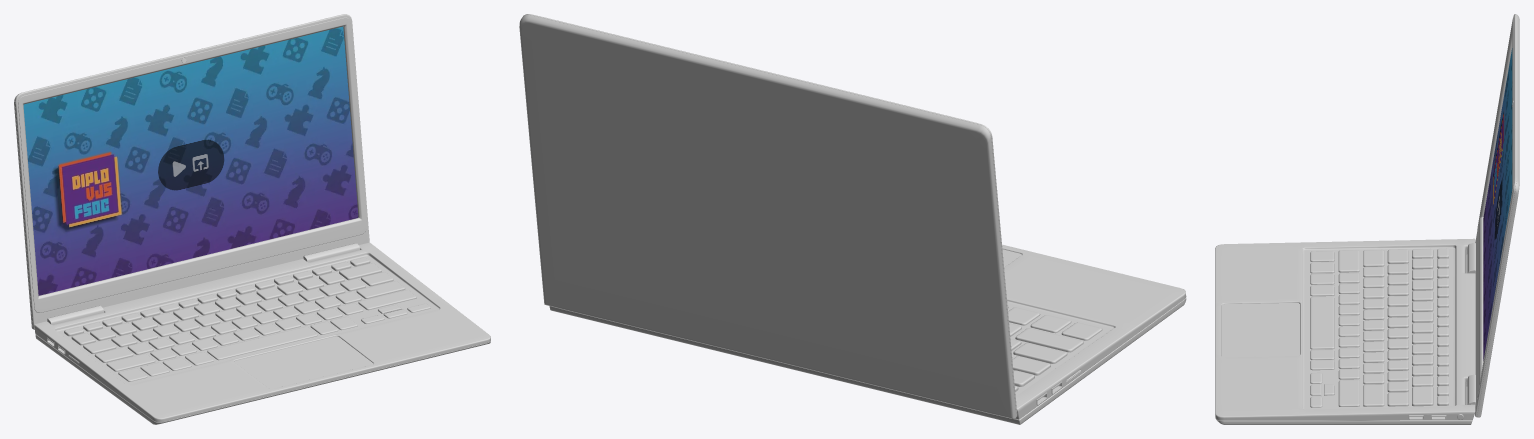
File: compu2.fbx
The picture shows the model from 3 angles, left to right: view 1: azimuth 30°, elevation 25°; view 2: azimuth 150°, elevation 25°; view 3: azimuth 270°, elevation 25°; orthographic projection. The views are drawn at different scales.
Parts seen in each view (by area): view 1: notebook; view 2: notebook; view 3: notebook.
Part boxes in pixels (box(x1,y1,x2,y2)): notebook: box(14, 14, 490, 424); notebook: box(519, 14, 1186, 424); notebook: box(1215, 14, 1519, 424).
Bounding box in the file's own units: 2521 × 1634 × 1868.
3 materials, 1 textured.
